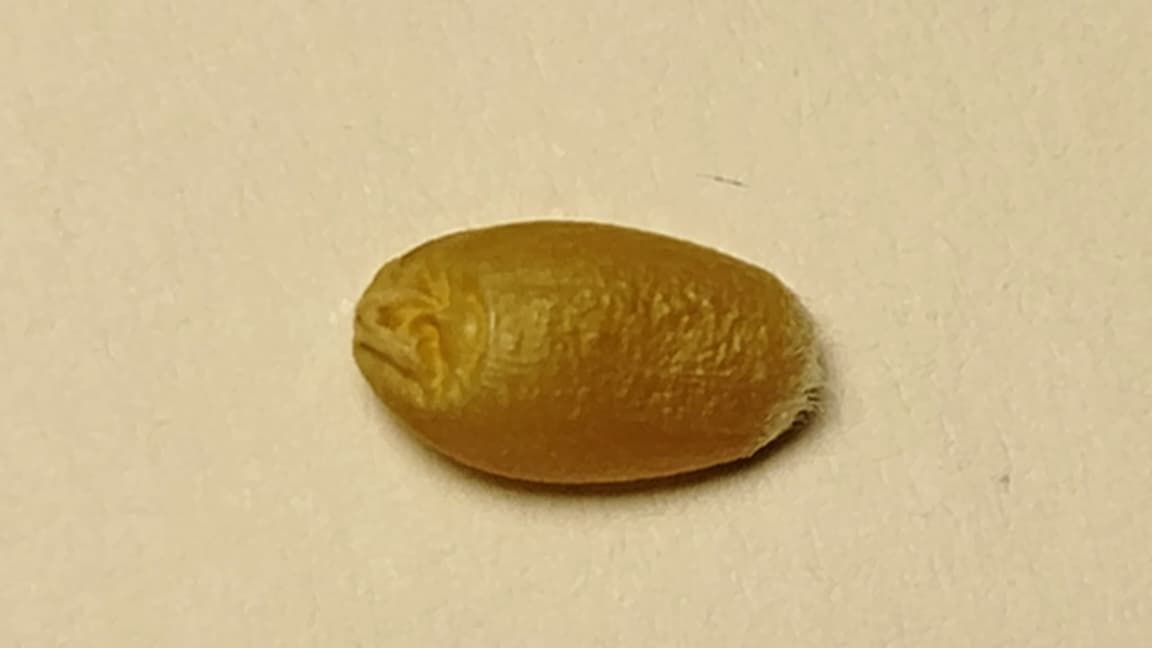healthy: (355, 218, 823, 482)
